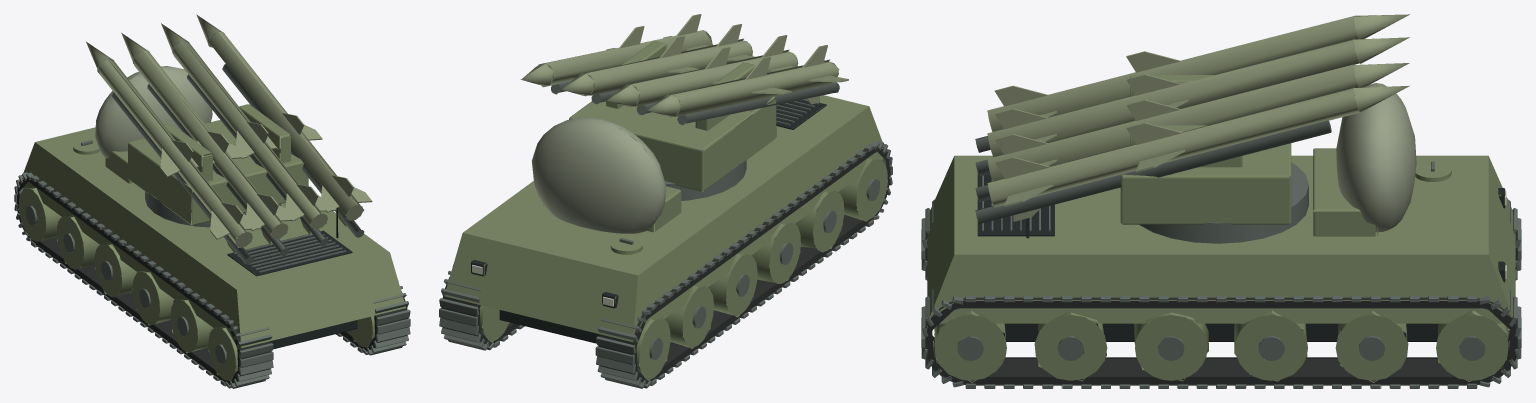
The picture shows the model from 3 angles, left to right: view 1: azimuth 30°, elevation 25°; view 2: azimuth 150°, elevation 25°; view 3: azimuth 270°, elevation 25°; orthographic projection. The views are drawn at different scales.
Parts seen in each view (by area): view 1: static.olive painted metal, static.edge and panel paint, static.dark exterior metal, static.rubber and track pads, static.exterior radome, static.recess shadow; view 2: static.olive painted metal, static.edge and panel paint, static.dark exterior metal, static.exterior radome, static.rubber and track pads, static.recess shadow; view 3: static.olive painted metal, static.edge and panel paint, static.dark exterior metal, static.rubber and track pads, static.exterior radome, static.recess shadow.
Boxes of the visible parts, x1=… form: static.olive painted metal: x1=18, y1=104, x2=405, y2=380; static.edge and panel paint: x1=86, y1=14, x2=372, y2=253; static.dark exterior metal: x1=14, y1=64, x2=410, y2=388; static.rubber and track pads: x1=16, y1=177, x2=408, y2=384; static.exterior radome: x1=95, y1=66, x2=212, y2=158; static.recess shadow: x1=227, y1=208, x2=357, y2=349; static.olive painted metal: x1=444, y1=40, x2=887, y2=380; static.edge and panel paint: x1=520, y1=14, x2=848, y2=117; static.dark exterior metal: x1=439, y1=81, x2=892, y2=388; static.exterior radome: x1=532, y1=117, x2=665, y2=233; static.rubber and track pads: x1=441, y1=146, x2=890, y2=384; static.recess shadow: x1=471, y1=99, x2=826, y2=343; static.olive painted metal: x1=927, y1=75, x2=1515, y2=382; static.edge and panel paint: x1=987, y1=14, x2=1409, y2=221; static.dark exterior metal: x1=921, y1=120, x2=1521, y2=388; static.rubber and track pads: x1=923, y1=212, x2=1519, y2=385; static.exterior radome: x1=1336, y1=83, x2=1416, y2=232; static.recess shadow: x1=977, y1=173, x2=1505, y2=341.
Bounding box in the file's own units: 4.13 × 4.86 × 9.3.
